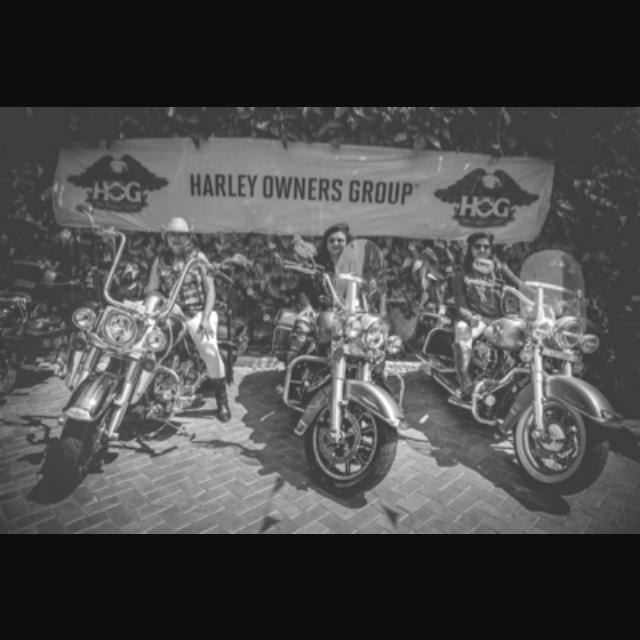Without Helmet: (458, 222, 506, 268), (156, 210, 198, 254), (321, 214, 355, 260)
